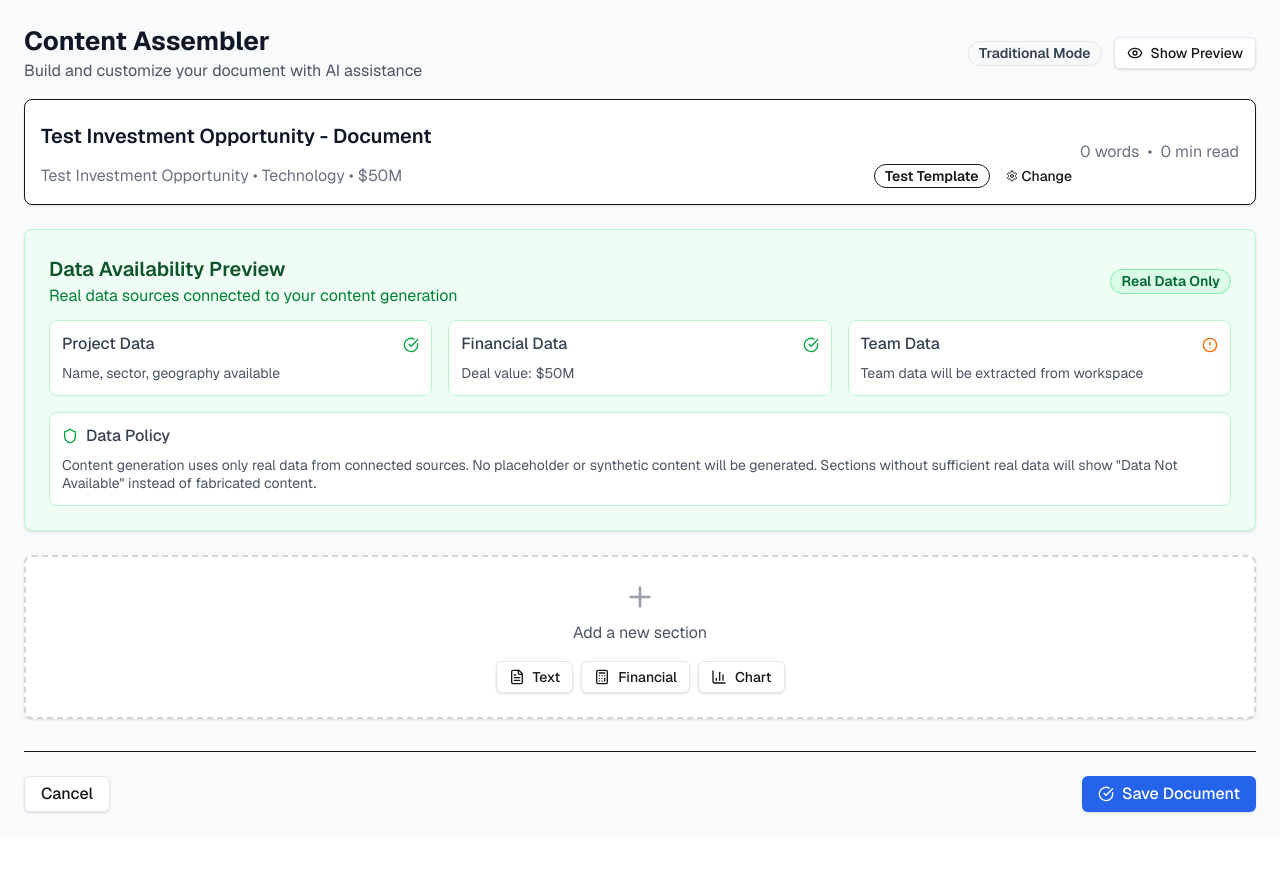
Test: ContentAssembler › handles API errors gracefully
Click the button "Text" at (534, 677), box [496, 661, 573, 693]
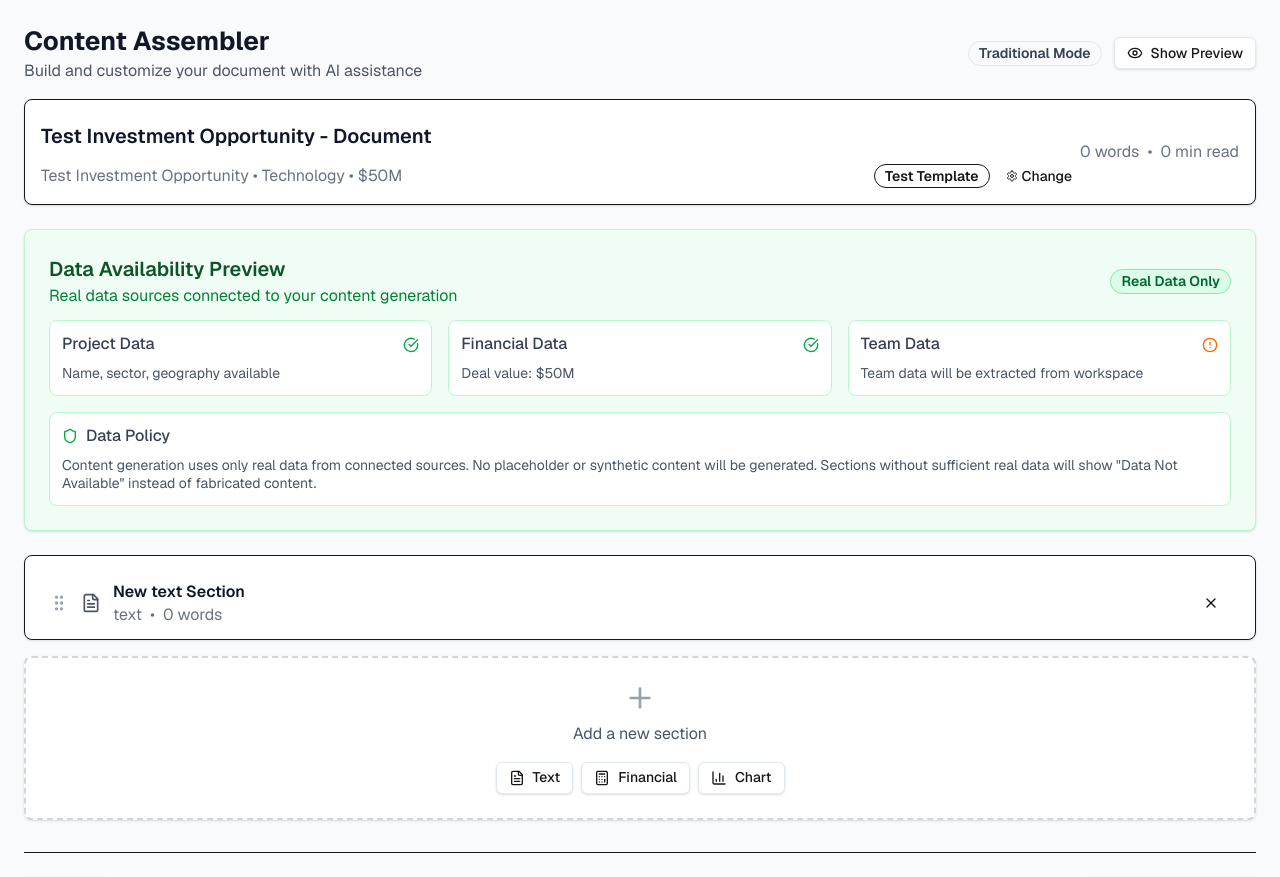
Check: the heading "New text Section" is shown, box [113, 580, 245, 604]
